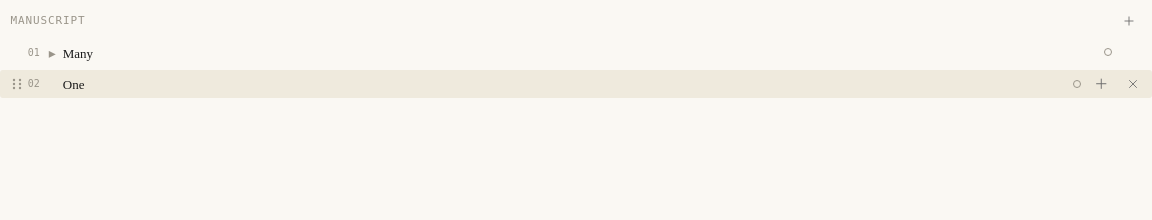
Test: ChapterList draft tree (9wk.7) › a non-open multi-draft chapter starts collapsed and toggles via the caret
Expected: the list item with test id "chapter-row-ch-1" is shown, [0,38,1151,66]
Click the button named "Show drafts".
click(52, 52)  # box [47,42,58,63]
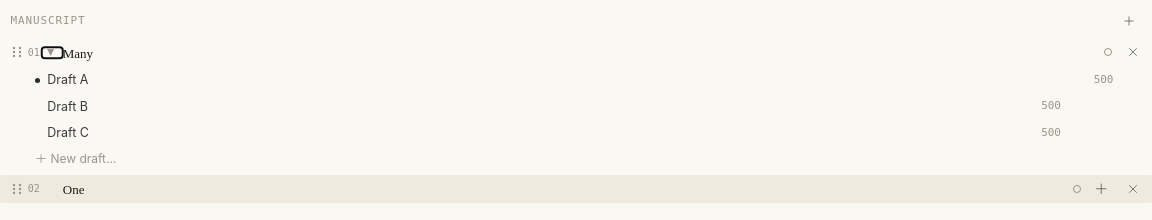
Expected: the list with test id "draft-list-ch-1" is shown, [0,66,1151,171]
Click the button named "Show drafts".
click(52, 52)  # box [42,47,63,58]
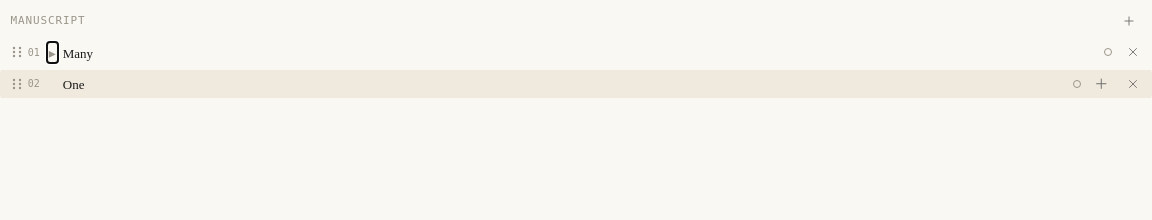
Expected: the list with test id "draft-list-ch-1" is gone
